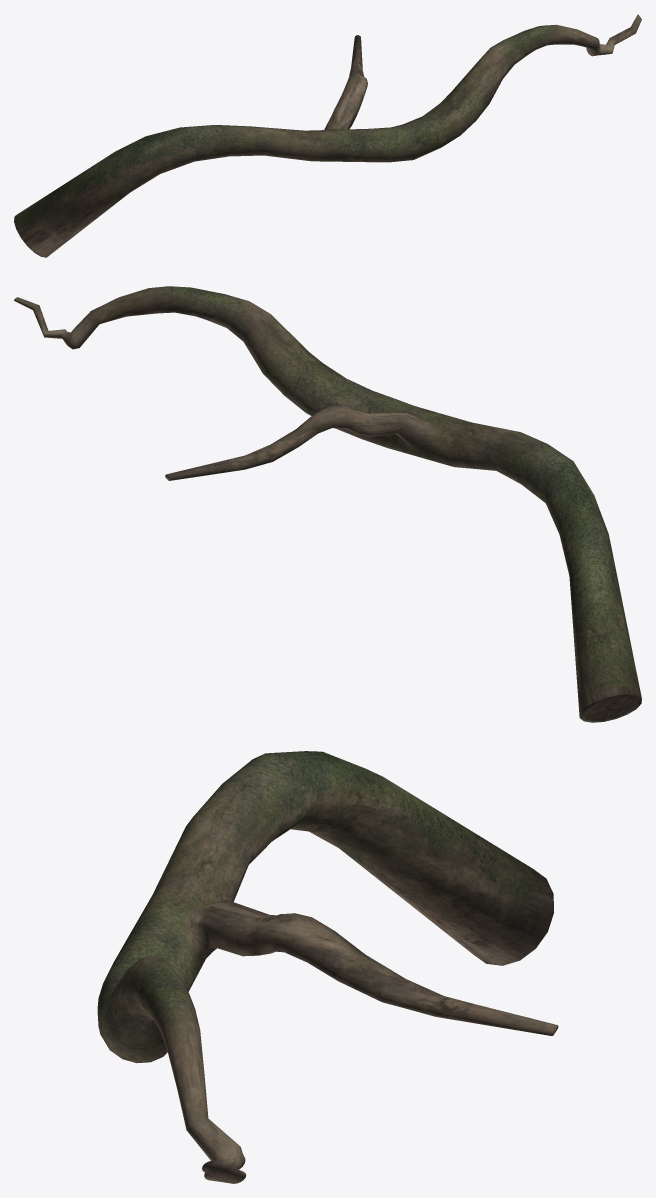
Rendered from SM_TwistedBranch2.fbx.
3 views of the same model, one above another, from view 1: azimuth 30°, elevation 25°; view 2: azimuth 150°, elevation 25°; view 3: azimuth 270°, elevation 25° (orthographic). The views are drawn at different scales.
Parts seen in each view (by area): view 1: SM_TwistedBranch2_LOD0; view 2: SM_TwistedBranch2_LOD0; view 3: SM_TwistedBranch2_LOD0.
Boxes of the visible parts, x1,y1,x2,y2 form: SM_TwistedBranch2_LOD0: [14, 14, 641, 257]; SM_TwistedBranch2_LOD0: [14, 286, 641, 722]; SM_TwistedBranch2_LOD0: [97, 751, 558, 1183].
Size of the model in its own units: 439 by 157 by 139.
